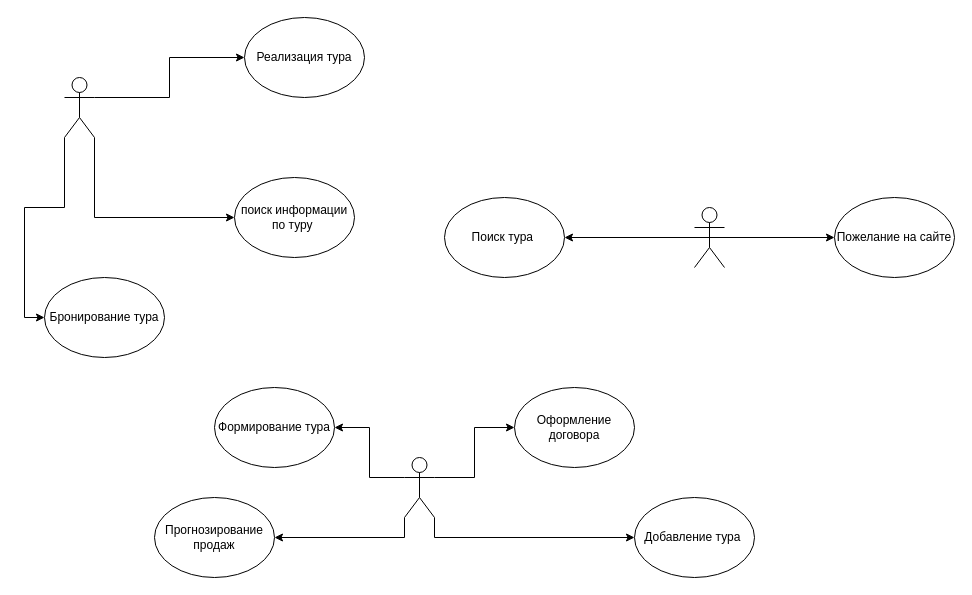
The diagram is 972 pixels wide and 595 high, and some of its shapes have lost their labels. The shapes that lost their labels are listed below. From the top down, each one's box as (x1, y1, x2, y2) in pixels, then its label:
(64, 76, 94, 138): Турагент
(694, 206, 724, 268): Клиент
(404, 456, 434, 518): Туроператор
